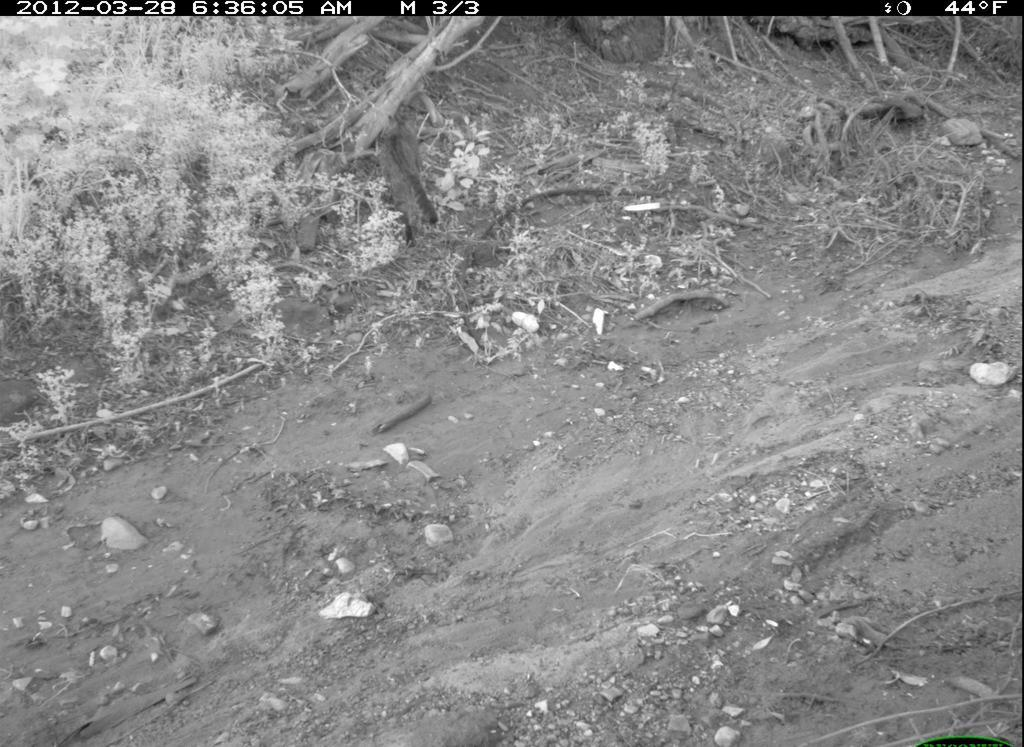cat: (374, 104, 446, 255)
